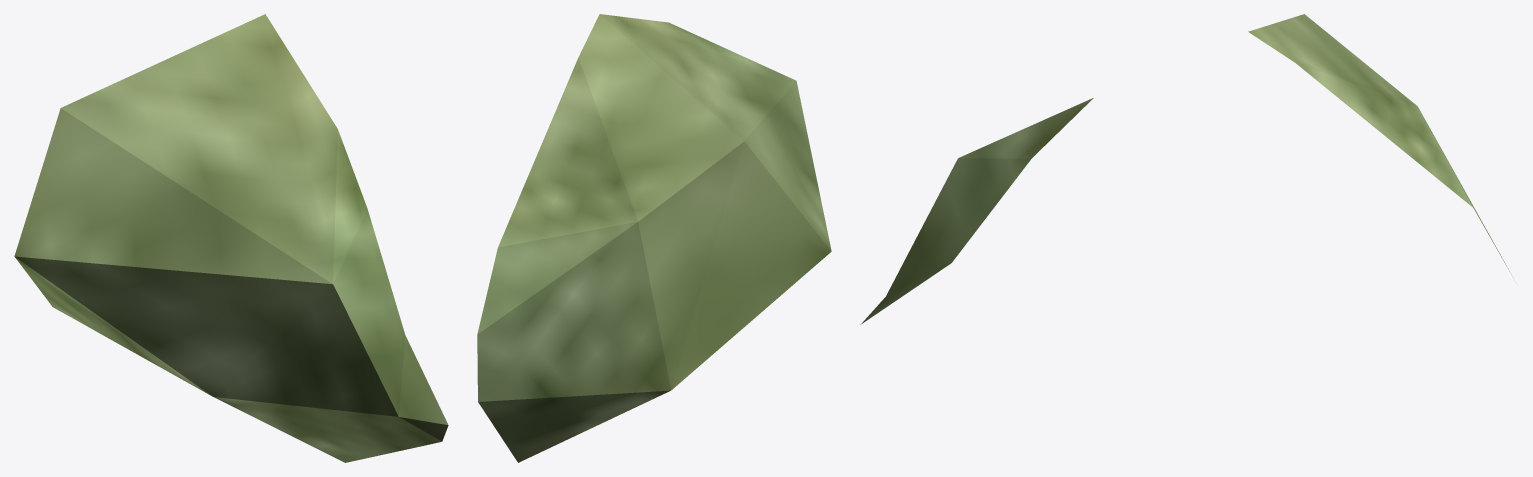
The picture shows the model from 3 angles, left to right: view 1: azimuth 30°, elevation 25°; view 2: azimuth 150°, elevation 25°; view 3: azimuth 270°, elevation 25°; orthographic projection. The views are drawn at different scales.
Size of the model in its own units: 1.04 by 1.64 by 2.27.
1 material, 1 textured.
